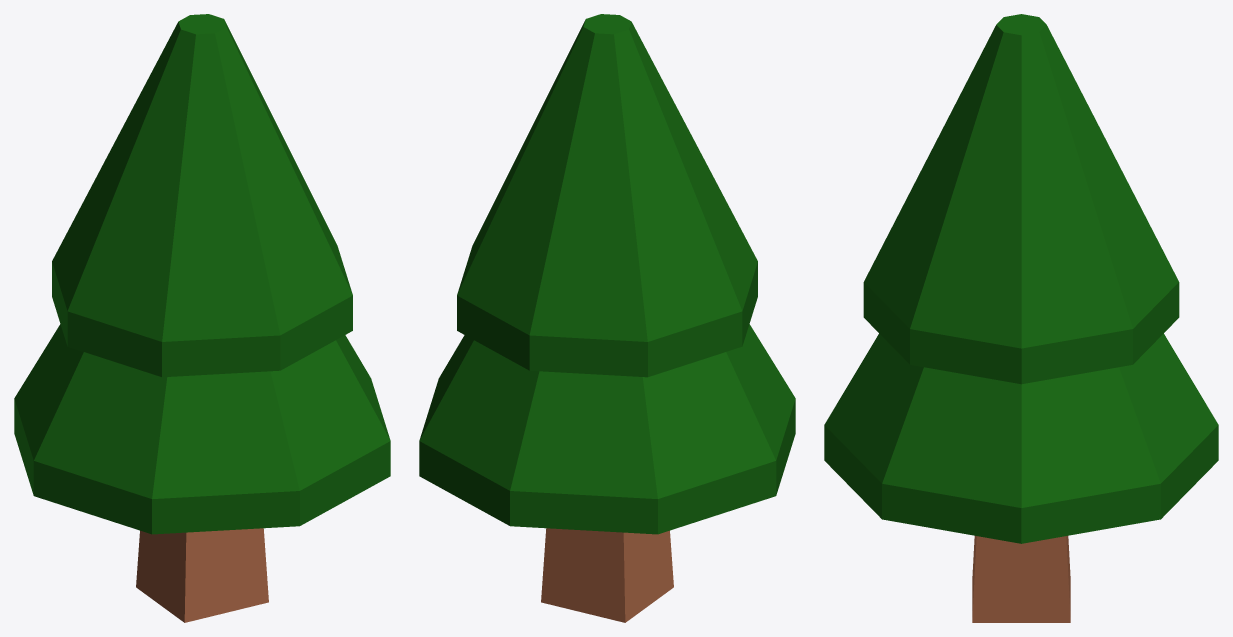
File: TreeSingleDiagonalTile.obj
The picture shows the model from 3 angles, left to right: view 1: azimuth 30°, elevation 25°; view 2: azimuth 150°, elevation 25°; view 3: azimuth 270°, elevation 25°; orthographic projection.
Visible parts, largest first — view 1: tree.005_tree.017; view 2: tree.005_tree.017; view 3: tree.005_tree.017.
Boxes of the visible parts, x1,y1,x2,y2 form: tree.005_tree.017: (14, 14, 390, 622); tree.005_tree.017: (419, 14, 795, 622); tree.005_tree.017: (824, 14, 1218, 622).
Size of the model in its own units: 0.6607 by 1.07 by 0.6607.
